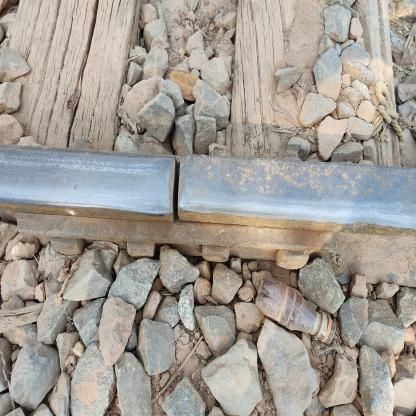Non Defective: (15, 214, 356, 296), (70, 149, 266, 239)
